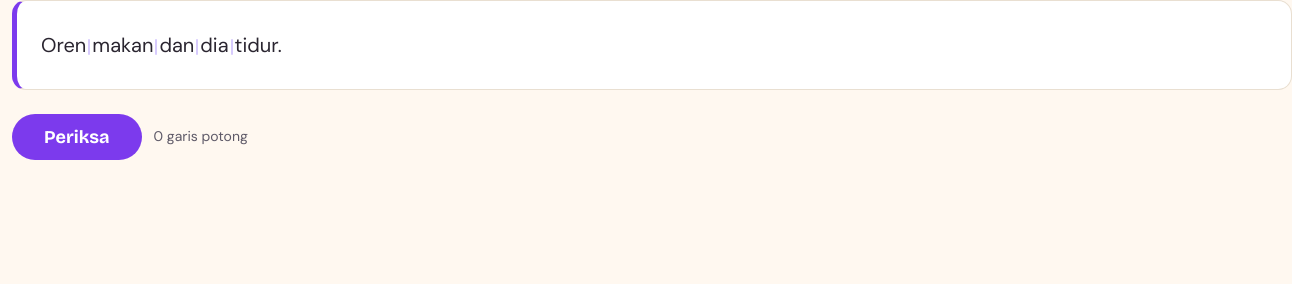
Test: Gunting › memasang potongan di spasi lalu periksa
What coordinates should you click on to do the following:
click the 3rd button named "pasang garis potong di sini"
I would click on:
 (197, 47)
Its box is [194,41,200,54].
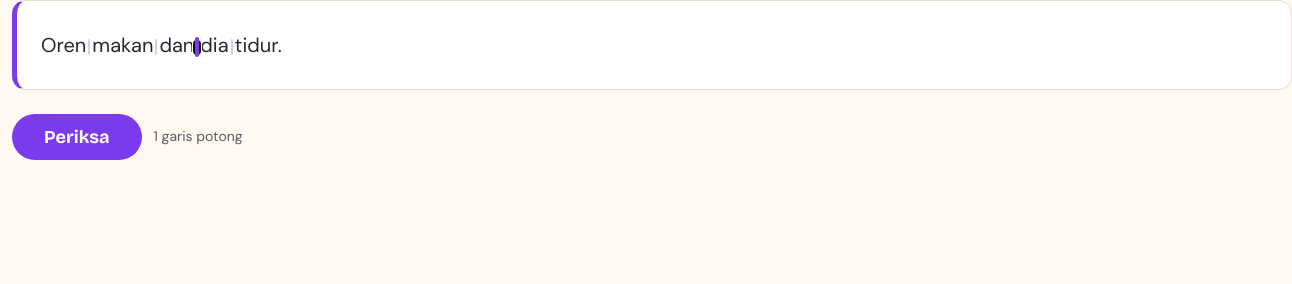
What coordinates should you click on to do the following:
click the 1st button named "pasang garis potong di sini"
I would click on:
 (89, 47)
Its box is [86,41,92,54].
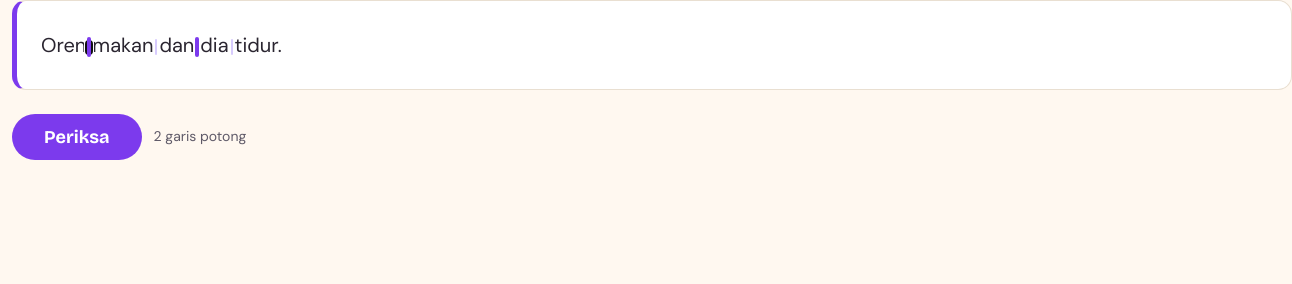
What coordinates should you click on to do the following:
click the 1st button named "pasang garis potong di sini"
I would click on:
 (89, 47)
Its box is [86,41,92,54].
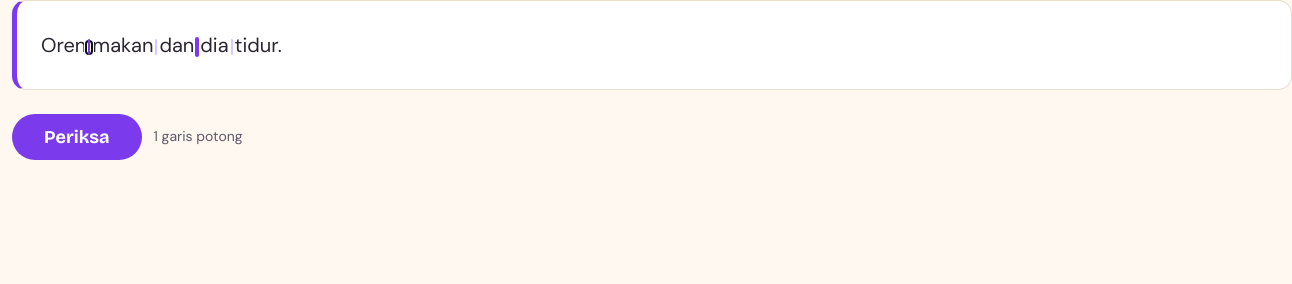
What coordinates should you click on to do the following:
click the button "Periksa"
I would click on:
 (77, 137)
Its box is [12,114,142,160].
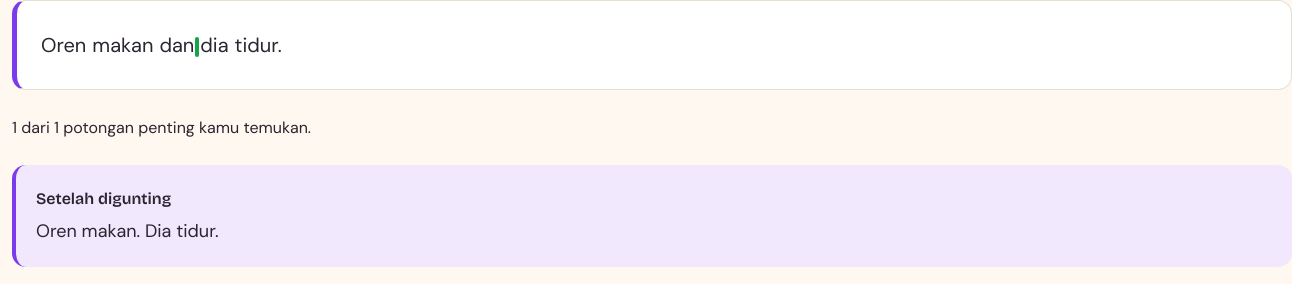
Check: the text "Oren makan. Dia tidur." is shown, box [36,219,219,243]
